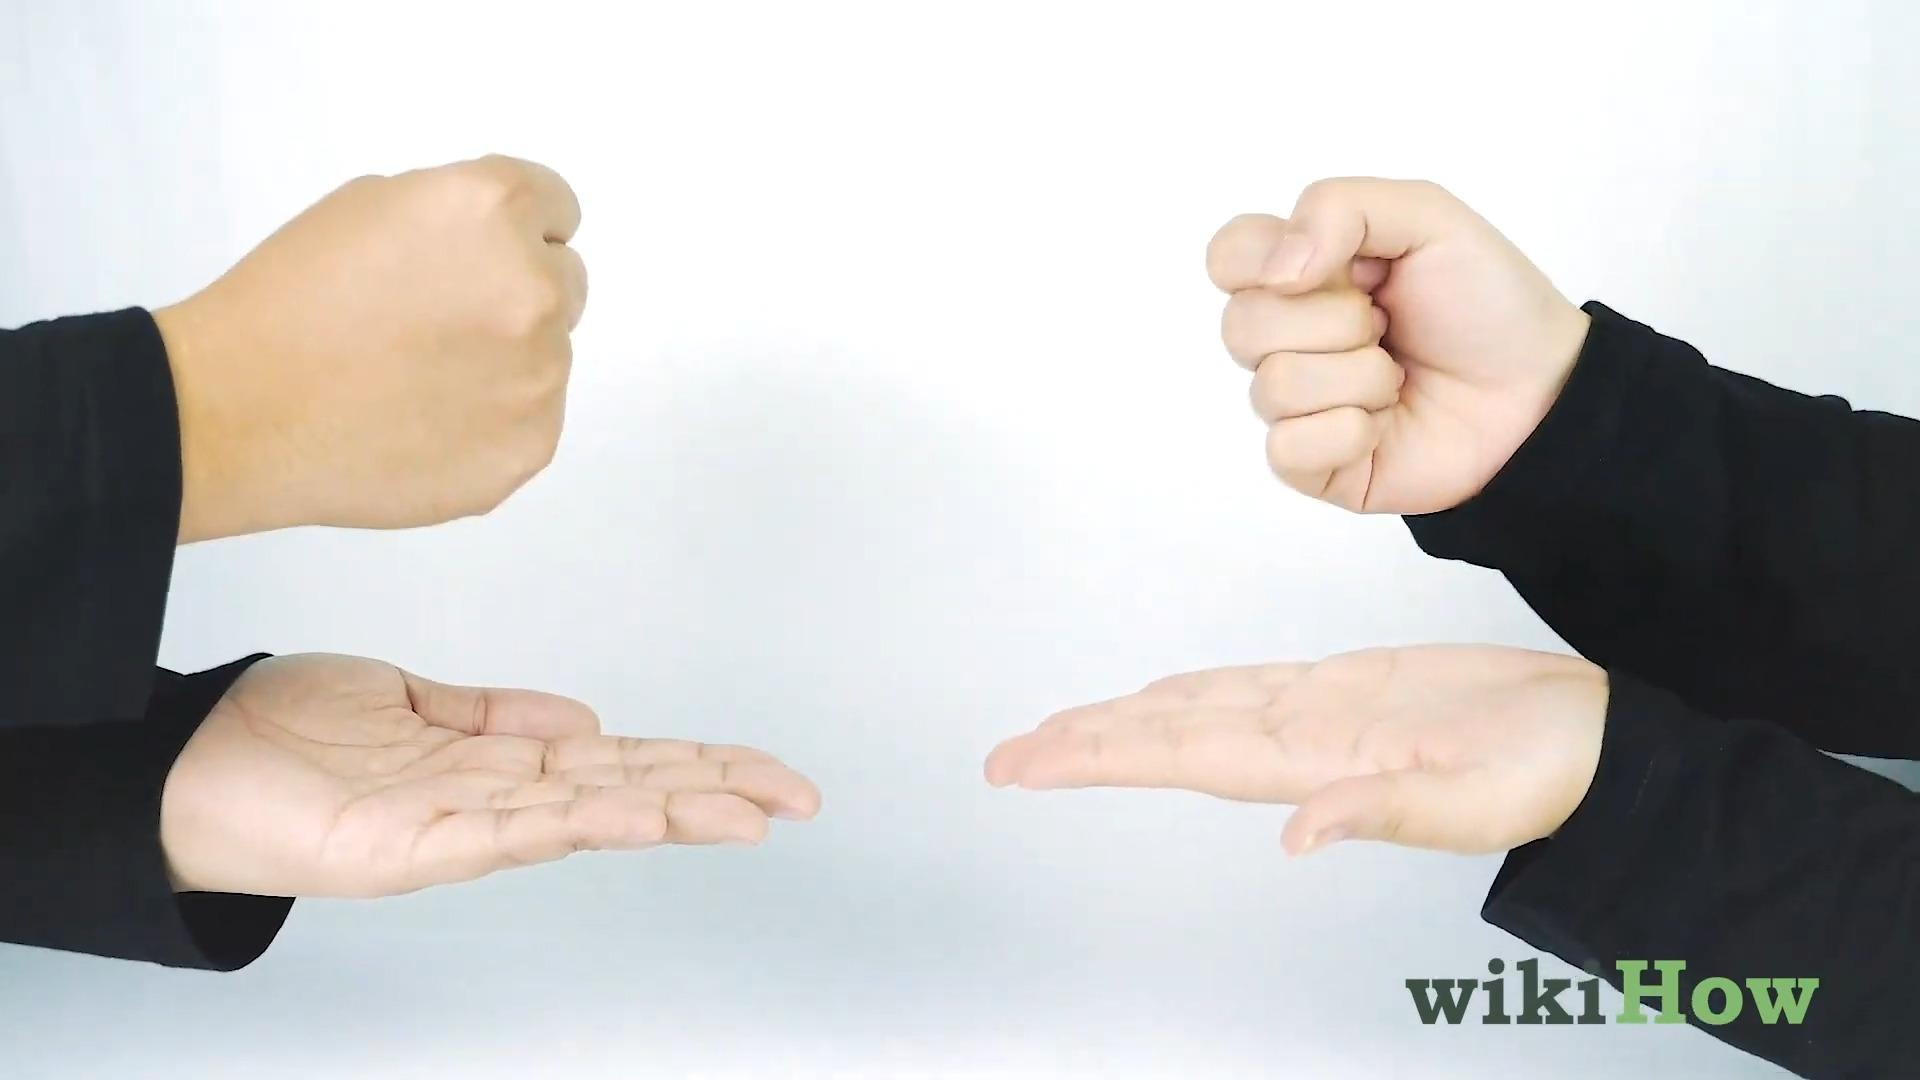Rock: (228, 153, 589, 534), (1200, 167, 1567, 513)
